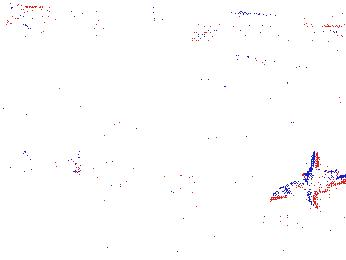flame jellyfish: (269, 150, 345, 248), (166, 166, 265, 225), (69, 137, 125, 198)
